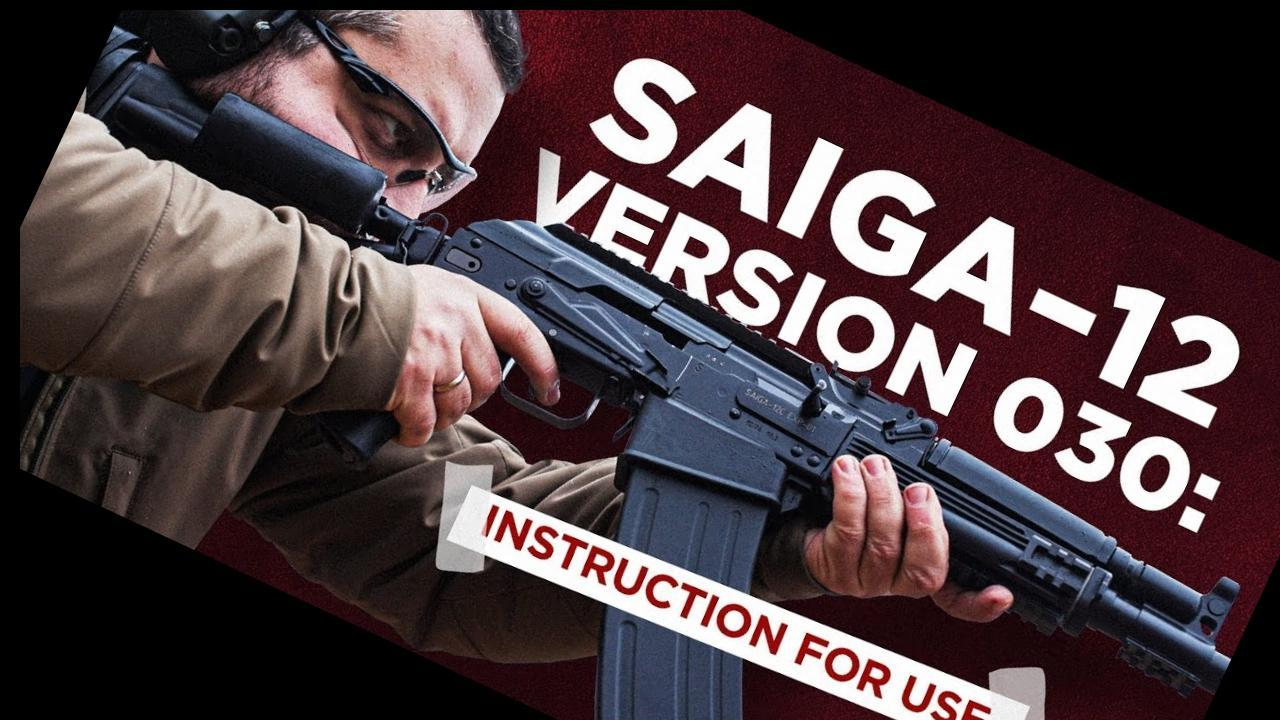larga: (85, 24, 1238, 720)
